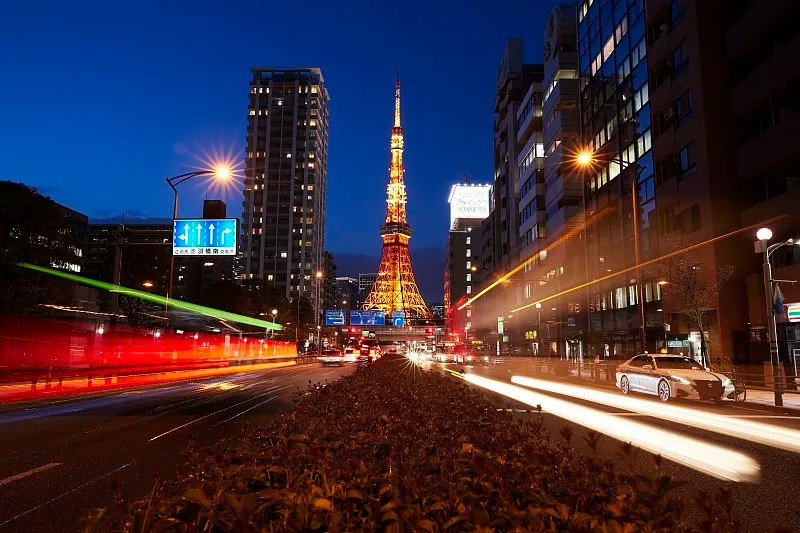Tokyo: (357, 63, 436, 319)
